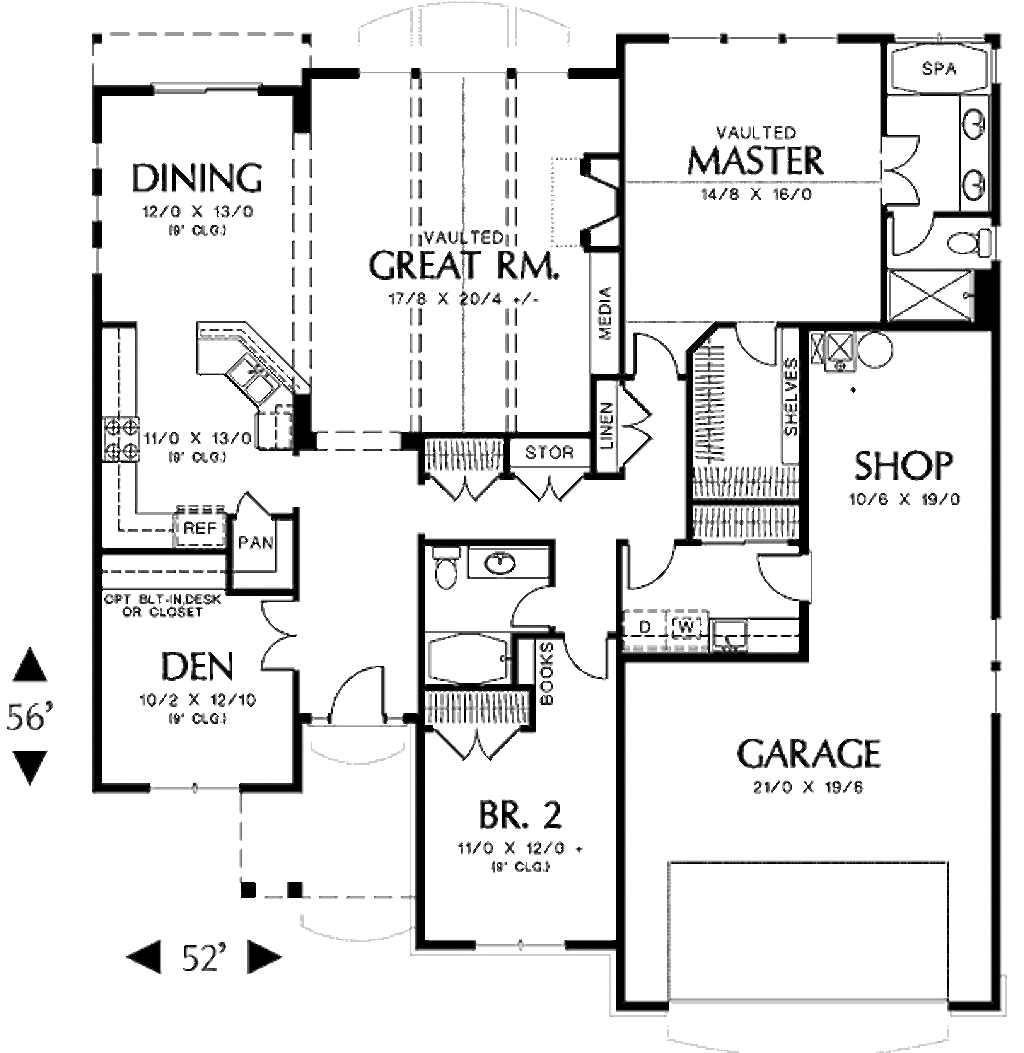door: (318, 658, 395, 730), (426, 714, 527, 768), (606, 376, 658, 472), (873, 124, 924, 220), (249, 595, 305, 679), (560, 623, 624, 690), (729, 315, 792, 374), (886, 197, 939, 267), (420, 455, 497, 502), (747, 551, 817, 601), (621, 322, 683, 376), (502, 463, 587, 502), (502, 581, 561, 636), (620, 535, 675, 593), (228, 489, 279, 529)
large_sink: (941, 212, 1004, 268), (429, 539, 466, 594)
small_sink: (958, 96, 989, 213), (473, 538, 547, 579)
tub: (891, 39, 995, 98), (425, 630, 520, 686)
twin_sink: (223, 335, 289, 414)
